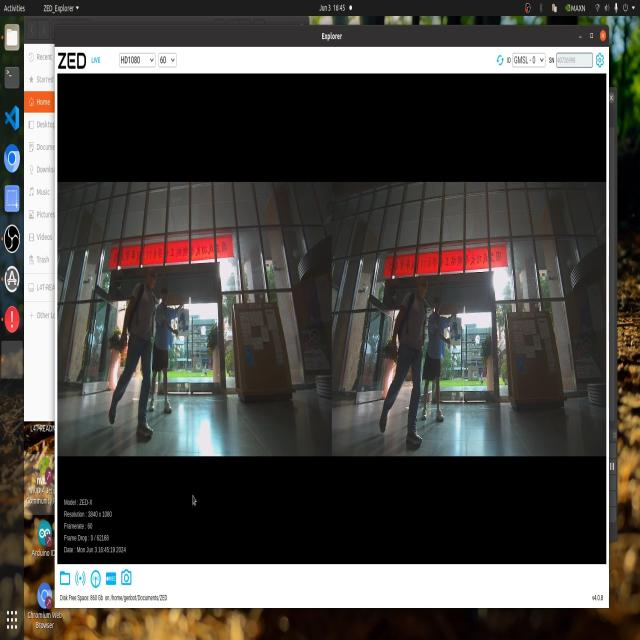blue: (446, 318, 470, 352), (175, 307, 197, 342)
